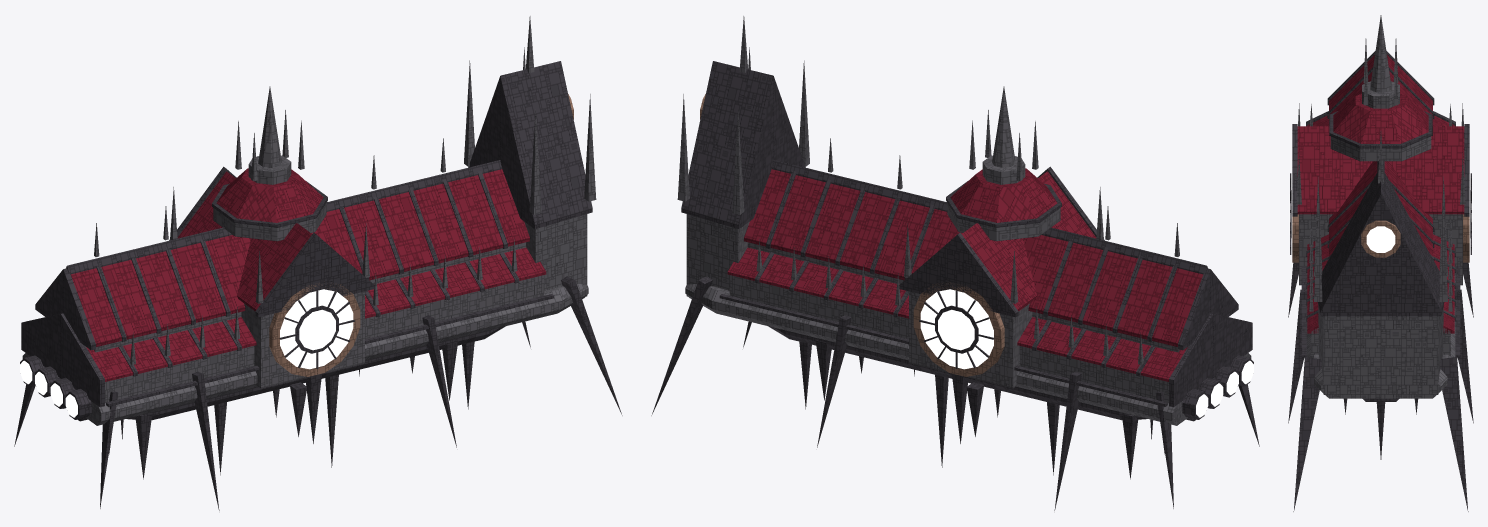
Rendered from arcane_lod1.glb.
The picture shows the model from 3 angles, left to right: view 1: azimuth 30°, elevation 25°; view 2: azimuth 150°, elevation 25°; view 3: azimuth 270°, elevation 25°; orthographic projection. The views are drawn at different scales.
Parts seen in each view (by area): view 1: arcane_lod1_body, arcane_lod1_glow; view 2: arcane_lod1_body, arcane_lod1_glow; view 3: arcane_lod1_body, arcane_lod1_glow.
Part boxes in pixels (bbox=[...]): arcane_lod1_body: bbox=[14, 16, 622, 510]; arcane_lod1_glow: bbox=[20, 289, 353, 417]; arcane_lod1_body: bbox=[651, 16, 1259, 510]; arcane_lod1_glow: bbox=[920, 289, 1253, 417]; arcane_lod1_body: bbox=[1288, 15, 1473, 511]; arcane_lod1_glow: bbox=[1289, 174, 1472, 254].
Bounding box in the file's own units: 21.34 × 15.7 × 6.8.
2 materials, 1 textured.
